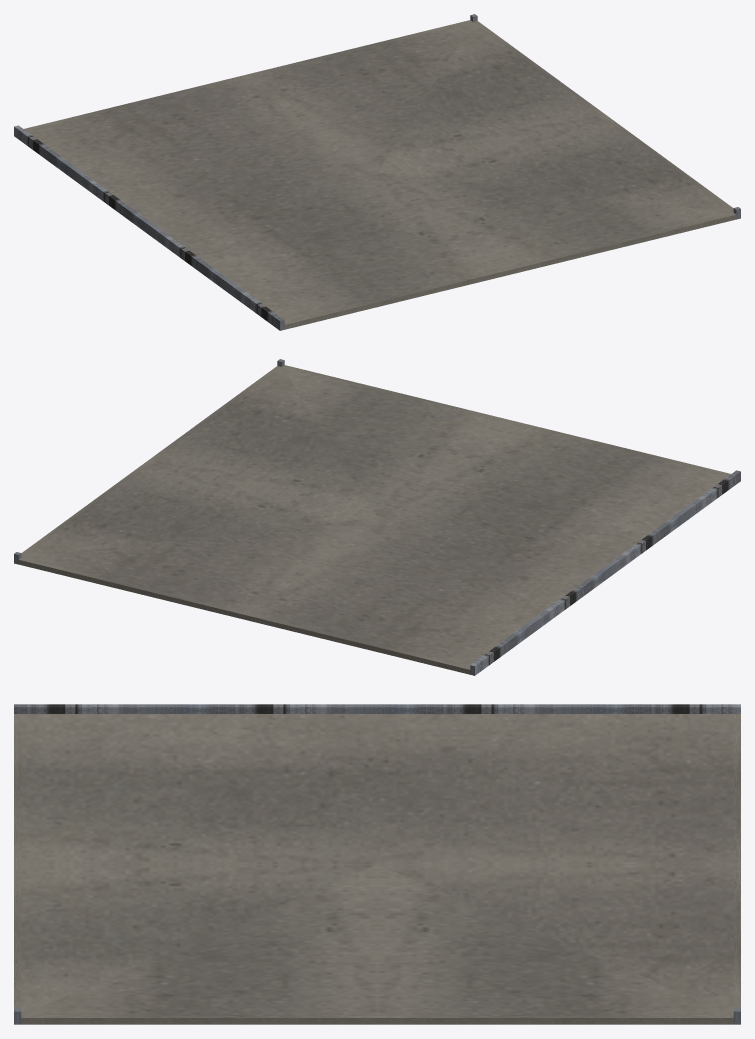
Rendered from Urban_Road3TjunctionSmallSides_Model.fbx.
The picture shows the model from 3 angles, top to bottom: view 1: azimuth 30°, elevation 25°; view 2: azimuth 150°, elevation 25°; view 3: azimuth 270°, elevation 25°; orthographic projection. The views are drawn at different scales.
Parts seen in each view (by area): view 1: Urban_Road3TjunctionSmallSides_Mesh; view 2: Urban_Road3TjunctionSmallSides_Mesh; view 3: Urban_Road3TjunctionSmallSides_Mesh.
Boxes of the visible parts, <box> form: Urban_Road3TjunctionSmallSides_Mesh: <box>14,14,740,330</box>; Urban_Road3TjunctionSmallSides_Mesh: <box>14,359,740,675</box>; Urban_Road3TjunctionSmallSides_Mesh: <box>14,704,740,1024</box>.
Size of the model in its own units: 16 by 0.32 by 16.
